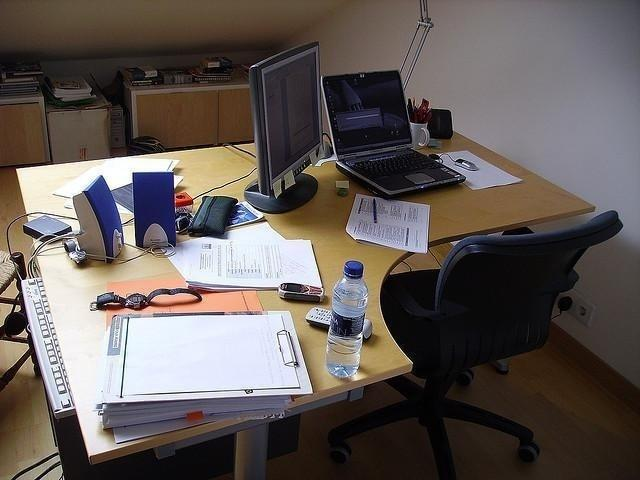bottle-plastic: (323, 260, 371, 378)
